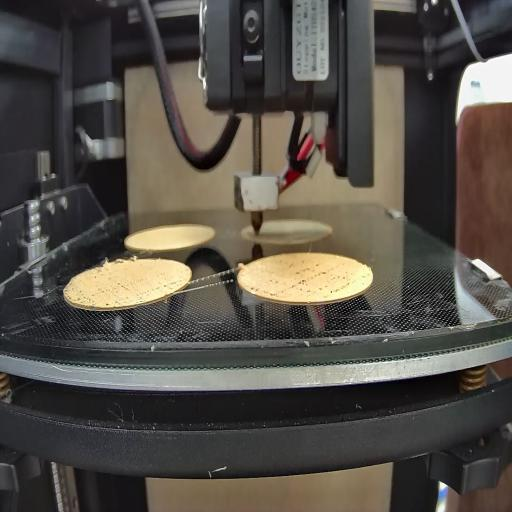under_extrusion: (287, 263, 353, 296), (78, 274, 131, 306), (247, 278, 280, 300), (147, 276, 183, 295)
